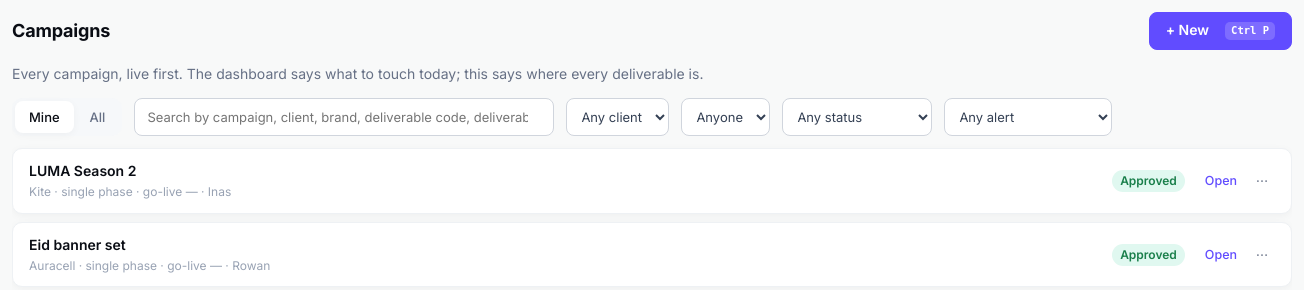
Scenario: CampaignsPage — Mine and All, and the filters (CG-00, I57.3) › closes the card menu on Escape
Click the button with test id "campaign-menu-mine1": (1262, 181) 1249,168 -> 1275,194
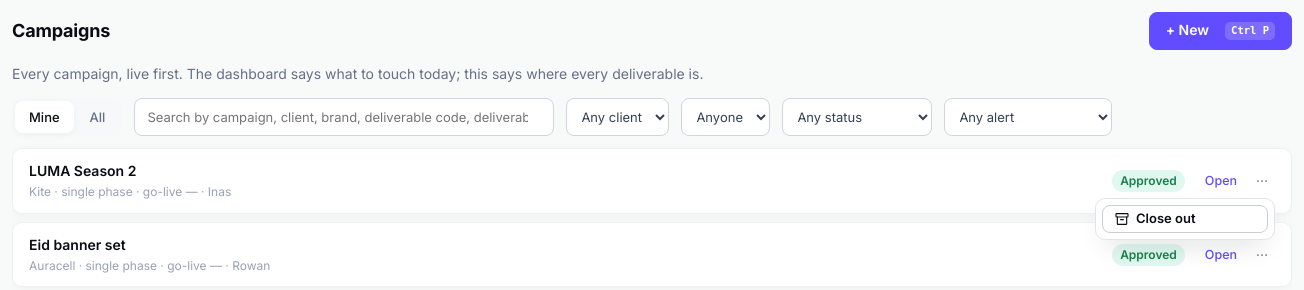
Result: the menu item with test id "campaign-close-out-mine1" is shown at 1102,205 -> 1268,233
Press Escape
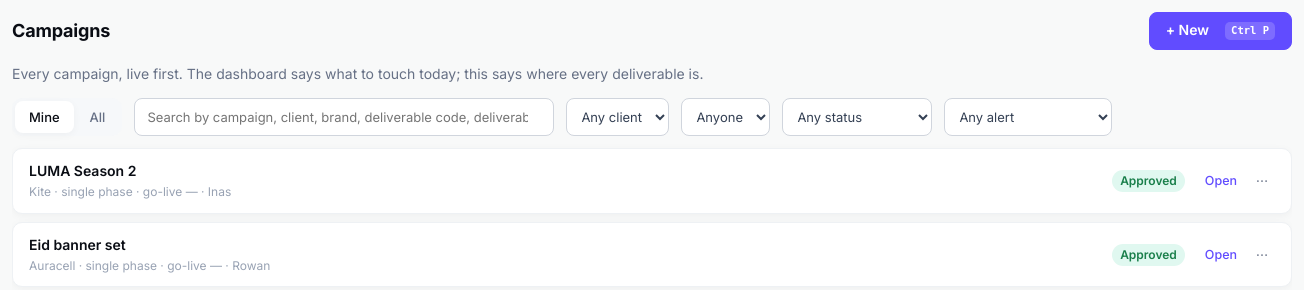
Result: the menu item with test id "campaign-close-out-mine1" is gone
